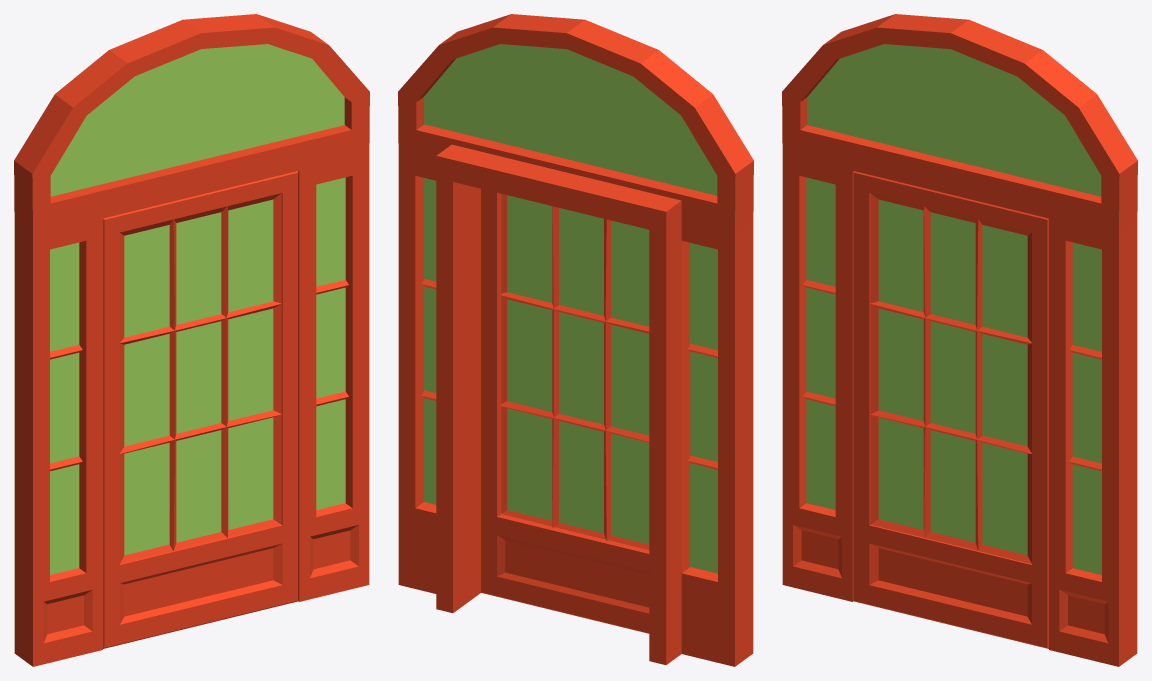
File: SM_Door_Single_C_Regular_City.fbx
The picture shows the model from 3 angles, left to right: view 1: azimuth 30°, elevation 25°; view 2: azimuth 150°, elevation 25°; view 3: azimuth 330°, elevation 25°; orthographic projection.
Parts seen in each view (by area): view 1: SM_Door_Single_C_Regular_City_Frame, SM_Door_Single_C_Regular_City_Door; view 2: SM_Door_Single_C_Regular_City_Frame, SM_Door_Single_C_Regular_City_Door; view 3: SM_Door_Single_C_Regular_City_Frame, SM_Door_Single_C_Regular_City_Door.
Part boxes in pixels (x1,y1,x2,y2): SM_Door_Single_C_Regular_City_Frame: (14,14,369,666); SM_Door_Single_C_Regular_City_Door: (103,171,298,648); SM_Door_Single_C_Regular_City_Frame: (398,14,753,666); SM_Door_Single_C_Regular_City_Door: (481,189,649,633); SM_Door_Single_C_Regular_City_Frame: (782,14,1137,666); SM_Door_Single_C_Regular_City_Door: (853,171,1048,648).
Bounding box in the file's own units: 1.72 × 2.89 × 0.3001.
